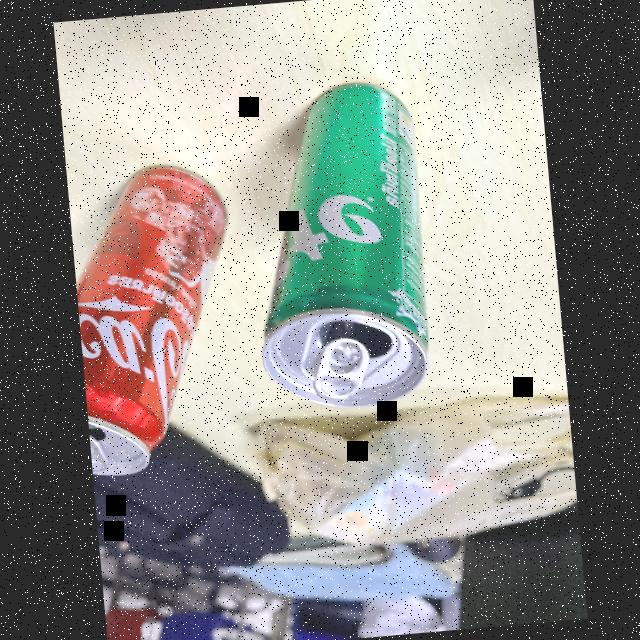can: (240, 61, 450, 414), (66, 153, 266, 490)
